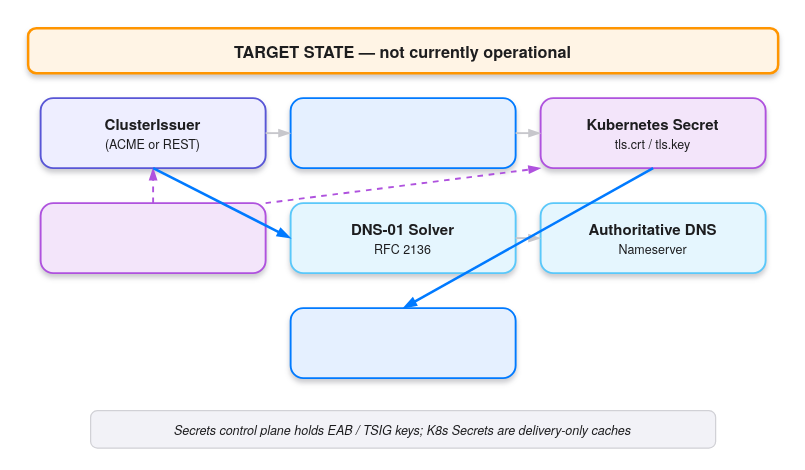
Some shapes in this 805 by 470 pixel diagram are drawn without their labels. The centre of each missing label's shape, as x and y in pixels:
Certificate Resources: the point at 402,134
Ingress / Gateway Cequence Defender: the point at 402,344
Secrets Control Vault / ASM: the point at 152,239
